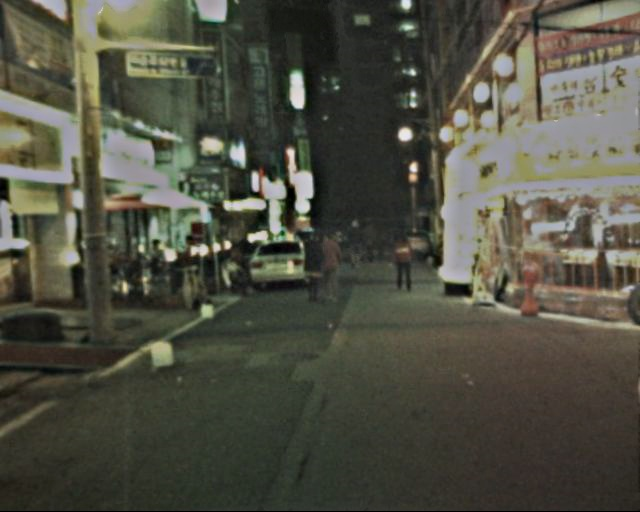person: (317, 224, 349, 305), (299, 226, 329, 306), (391, 226, 421, 295), (344, 215, 369, 271), (365, 222, 392, 268)
